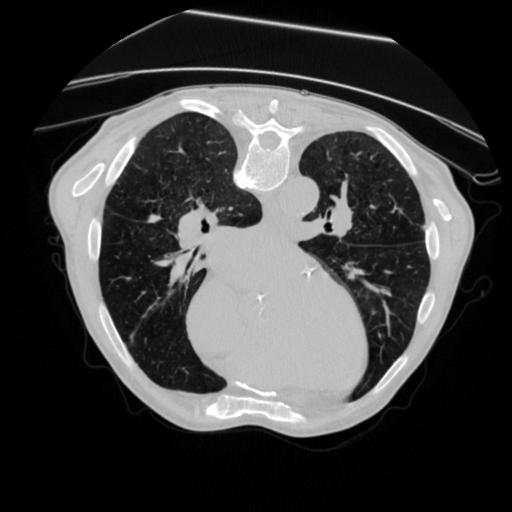nodule: (145, 212, 161, 228)
